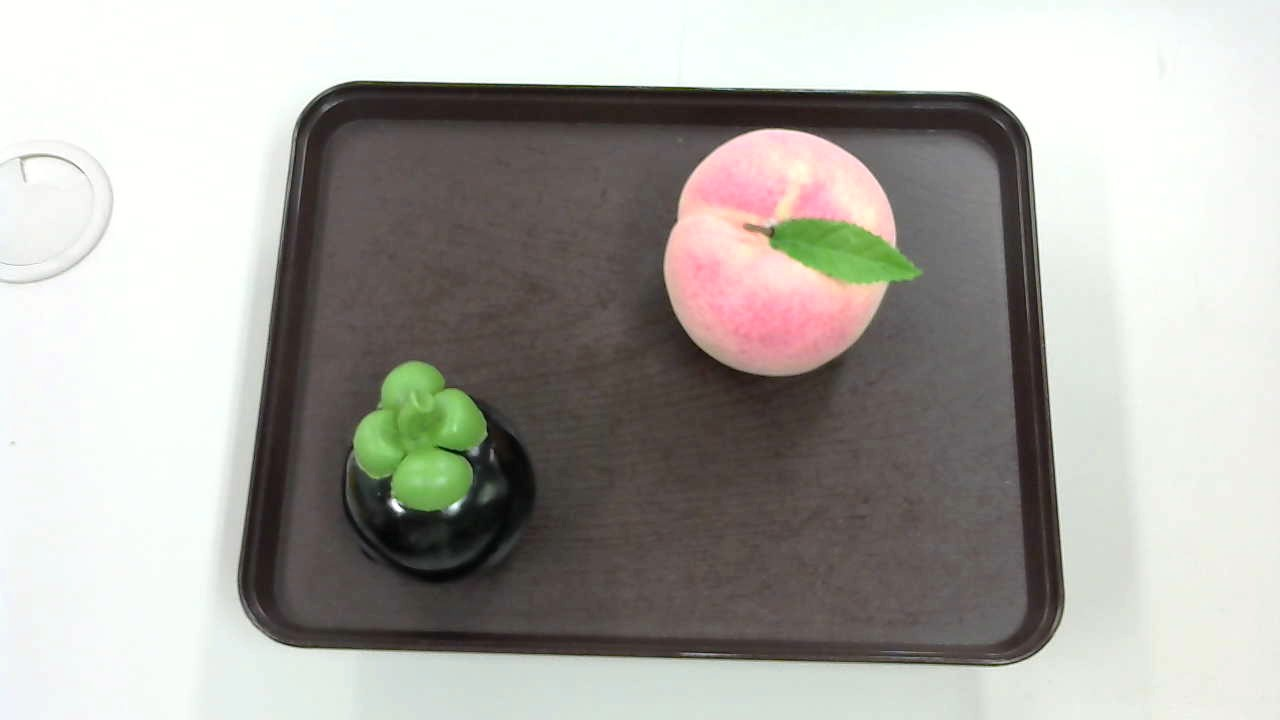mangosteen: (335, 358, 549, 591)
peach: (658, 128, 923, 393)
